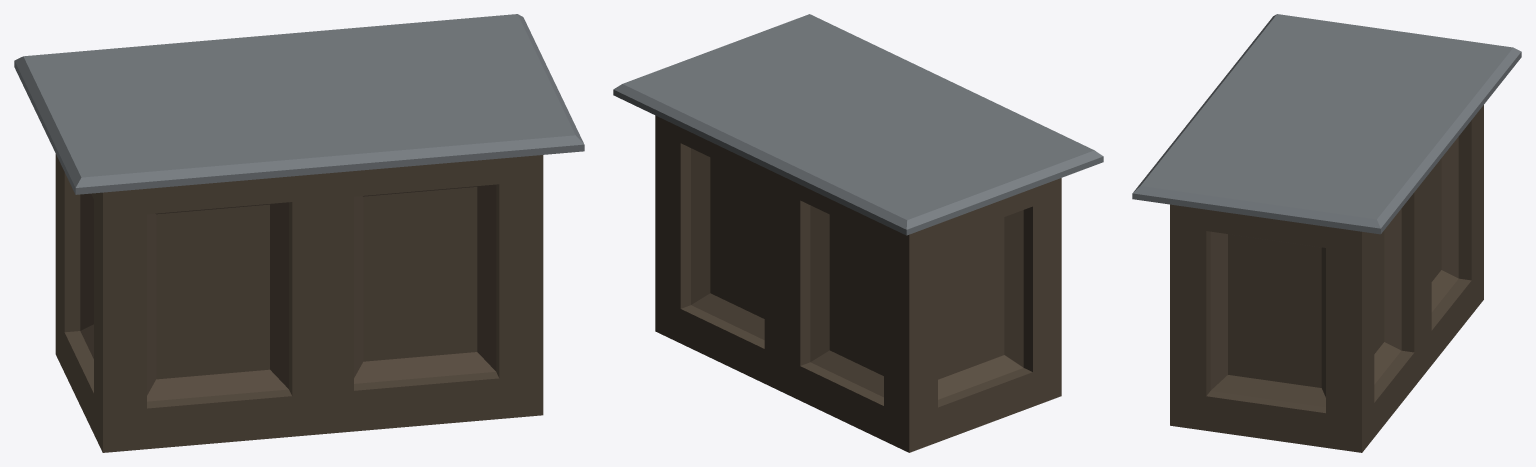
File: TEMP_Table_2.fbx
3 renders of one model, left to right at view 1: azimuth 30°, elevation 25°; view 2: azimuth 150°, elevation 25°; view 3: azimuth 270°, elevation 25°, orthographic. The views are drawn at different scales.
Visible parts, largest first — view 1: Table_2; view 2: Table_2; view 3: Table_2.
Part boxes in pixels (<box>): Table_2: <box>14,14,584,452</box>; Table_2: <box>613,14,1103,452</box>; Table_2: <box>1132,14,1521,452</box>.
Size of the model in its own units: 10.52 by 5.69 by 8.15.
